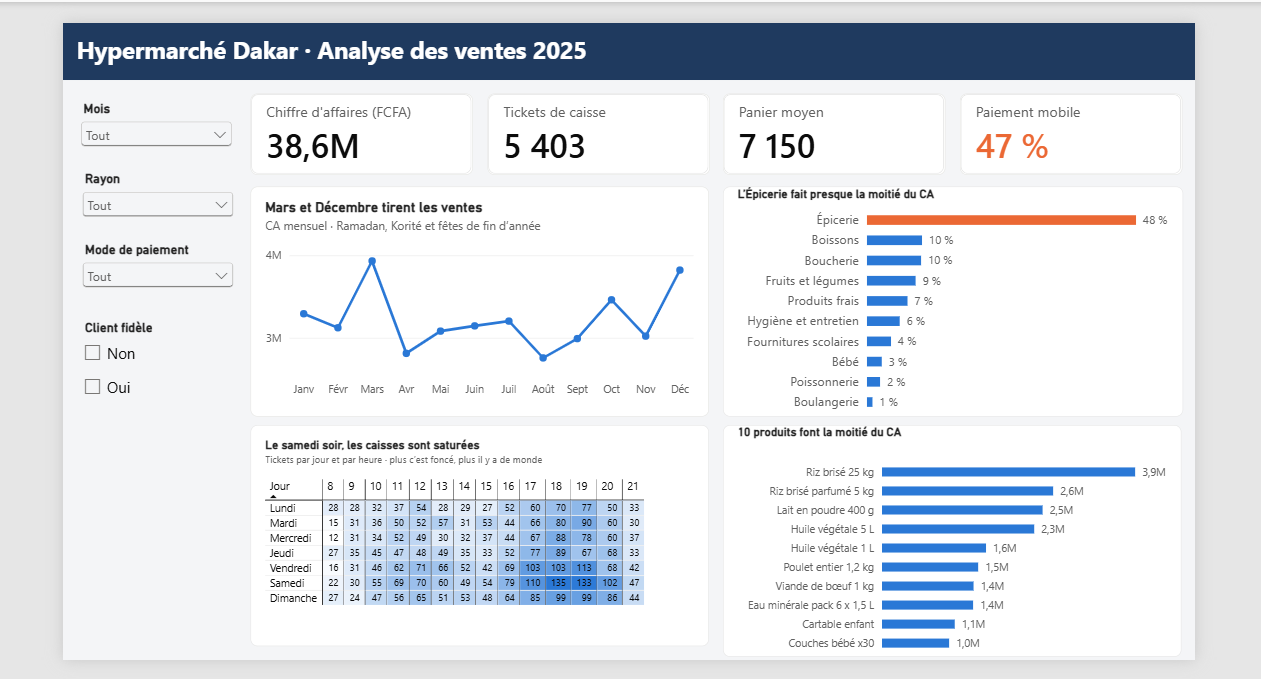

The dashboard page shown, as its layout file describes it:
{"tool":"powerbi","page":{"name":"Page 1","canvas":[1280,720],"ordinal":0},"visuals":[{"type":"shape","box":[0,0,1920.7,64.4],"z":0},{"type":"textbox","box":[16,12,700,40],"z":1000},{"type":"cardVisual","fields":{"Data":["ventes_propres.CA"]},"box":[212,80,251,92],"z":2000},{"type":"cardVisual","fields":{"Data":["ventes_propres.Nb tickets"]},"box":[479,80,251,92],"z":3000},{"type":"cardVisual","fields":{"Data":["ventes_propres.Panier moyen"]},"box":[746,80,251,92],"z":4000},{"type":"cardVisual","fields":{"Data":["ventes_propres.% paiement mobile"]},"box":[1013,80,251,92],"z":5000},{"type":"lineChart","title":"Mars et Décembre  tirent les ventes","fields":{"Category":["ventes_propres.mois"],"Y":["ventes_propres.CA"]},"box":[212,184,518,260],"z":6000},{"type":"clusteredBarChart","title":"L’Épicerie fait presque la moitié du CA","fields":{"Category":["ventes_propres.categorie"],"Y":["ventes_propres.Part du CA"]},"box":[745.8,184,520,260],"z":7000},{"type":"pivotTable","title":"Le samedi soir, les caisses sont saturées","fields":{"Columns":["ventes_propres.heure_num"],"Rows":["ventes_propres.jour_semaine"],"Values":["ventes_propres.Nb tickets"]},"box":[212,454,518,250],"z":8000},{"type":"clusteredBarChart","title":"10 produits font la moitié du CA","fields":{"Category":["ventes_propres.produit"],"Y":["ventes_propres.CA"]},"box":[746,454,518,262],"z":8001},{"type":"slicer","fields":{"Values":["ventes_propres.mois"]},"box":[16,88,180,60],"z":8002},{"type":"slicer","fields":{"Values":["ventes_propres.categorie"]},"box":[16.9,168,180,60],"z":8003},{"type":"slicer","fields":{"Values":["ventes_propres.mode_paiement"]},"box":[16.9,248,180,60],"z":8004},{"type":"slicer","fields":{"Values":["ventes_propres.client_fidele"]},"box":[16.9,335.6,180,100],"z":8005}]}

Visuals, with their boxes on the page's 1280x720 design canvas (x1, y1, x2, y2). These are canvas units, not pixel positions in the 1261x679 screenshot, which may show the page scaled, cropped or inside an application window:
shape: Rect(0, 0, 1921, 64)
textbox: Rect(16, 12, 716, 52)
cardVisual - ventes_propres.CA: Rect(212, 80, 463, 172)
cardVisual - ventes_propres.Nb tickets: Rect(479, 80, 730, 172)
cardVisual - ventes_propres.Panier moyen: Rect(746, 80, 997, 172)
cardVisual - ventes_propres.% paiement mobile: Rect(1013, 80, 1264, 172)
"Mars et Décembre  tirent les ventes" lineChart: Rect(212, 184, 730, 444)
"L’Épicerie fait presque la moitié du CA" clusteredBarChart: Rect(746, 184, 1266, 444)
"Le samedi soir, les caisses sont saturées" pivotTable: Rect(212, 454, 730, 704)
"10 produits font la moitié du CA" clusteredBarChart: Rect(746, 454, 1264, 716)
slicer - ventes_propres.mois: Rect(16, 88, 196, 148)
slicer - ventes_propres.categorie: Rect(17, 168, 197, 228)
slicer - ventes_propres.mode_paiement: Rect(17, 248, 197, 308)
slicer - ventes_propres.client_fidele: Rect(17, 336, 197, 436)
